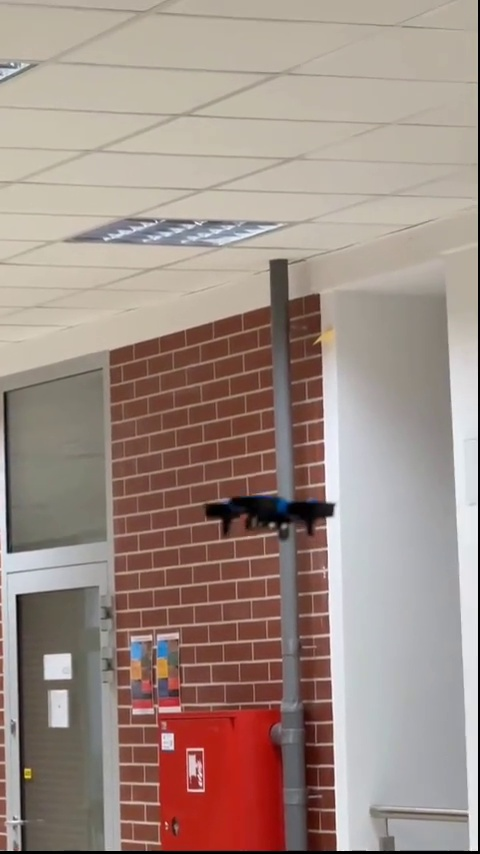drone: (204, 493, 338, 542)
